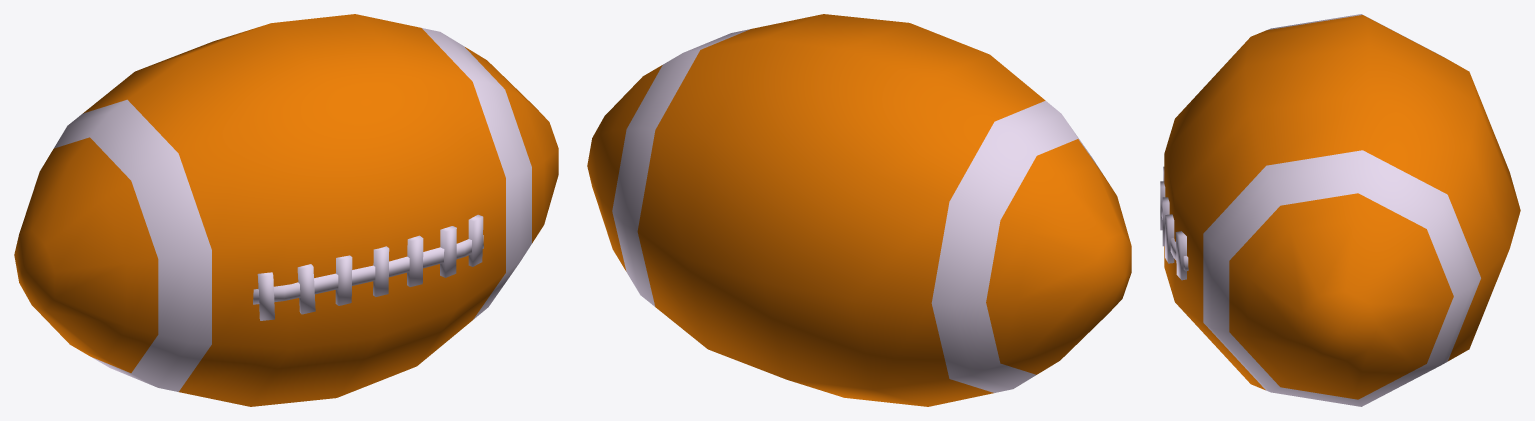
The model's file is American football_ball.fbx.
The picture shows the model from 3 angles, left to right: view 1: azimuth 30°, elevation 25°; view 2: azimuth 150°, elevation 25°; view 3: azimuth 270°, elevation 25°; orthographic projection. The views are drawn at different scales.
Visible parts, largest first — view 1: American football_ball; view 2: American football_ball; view 3: American football_ball.
Part boxes in pixels (x1,y1,x2,y2): American football_ball: (14,14,558,406); American football_ball: (587,14,1131,406); American football_ball: (1160,14,1520,406).
Bounding box in the file's own units: 0.7762 × 0.4863 × 0.4845.
